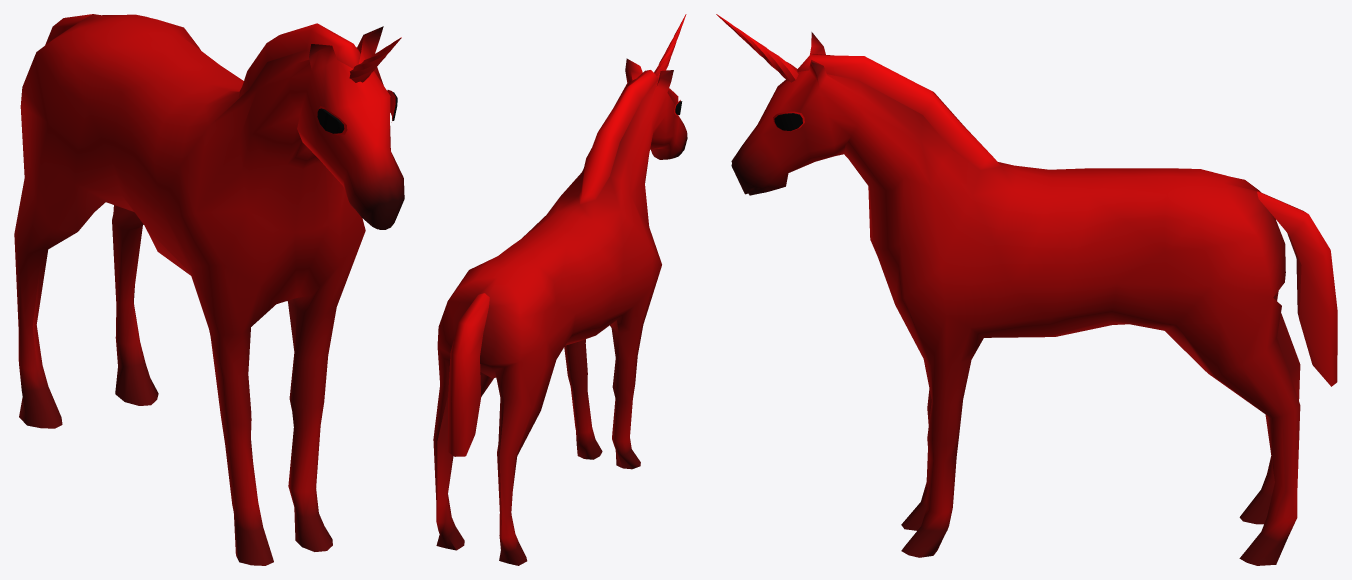
The model's file is Imaginary_Unicorn.fbx.
3 views of the same model, side by side, from view 1: azimuth 30°, elevation 25°; view 2: azimuth 150°, elevation 25°; view 3: azimuth 270°, elevation 25° (orthographic). The views are drawn at different scales.
Parts seen in each view (by area): view 1: base; view 2: base; view 3: base.
Boxes of the visible parts, left/top/right/bottom form: base: left=14, top=14, right=404, bottom=565; base: left=433, top=14, right=687, bottom=565; base: left=716, top=14, right=1337, bottom=565.
Bounding box in the file's own units: 56.05 × 204 × 219.
